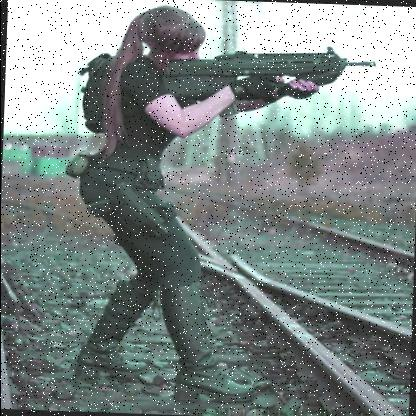rifle: (149, 37, 380, 123)
